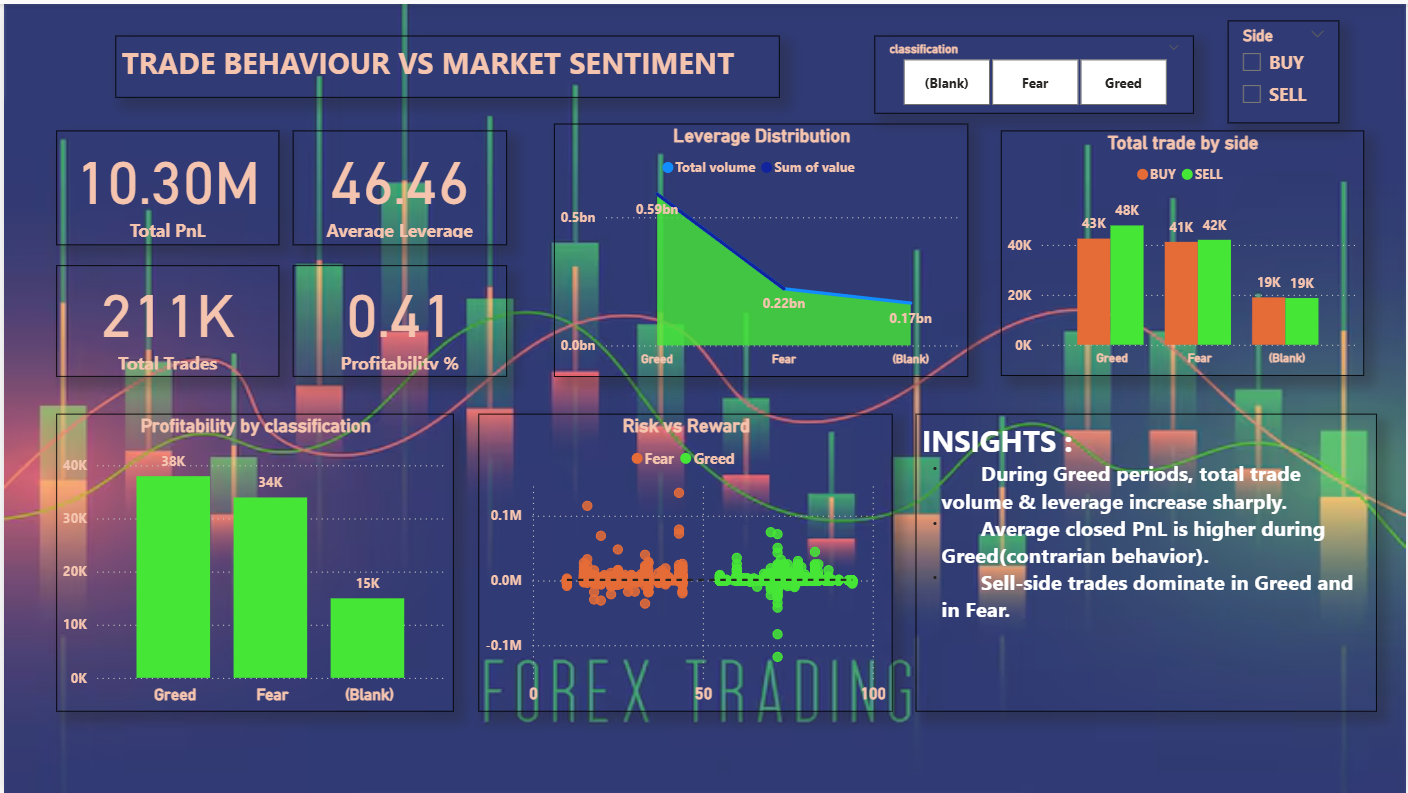

This screenshot's page, from the dashboard's own definition file:
{"tool":"powerbi","page":{"name":"Page 1","canvas":[1280,720],"ordinal":0},"visuals":[{"type":"card","fields":{"Values":["fear_greed_index.Total PnL"]},"box":[48.1,115.5,203.5,104.5],"z":0},{"type":"card","fields":{"Values":["fear_greed_index.Profitability %"]},"box":[264.1,237.9,195.3,101.8],"z":1},{"type":"card","fields":{"Values":["fear_greed_index.Total Trades"]},"box":[48.1,237.9,203.5,101.8],"z":2},{"type":"card","fields":{"Values":["fear_greed_index.Average Leverage"]},"box":[264.1,115.5,195.3,104.5],"z":3},{"type":"stackedAreaChart","title":"Leverage Distribution","fields":{"Category":["fear_greed_index.classification"],"Y":["fear_greed_index.Total volume","Sum(fear_greed_index.value)"]},"box":[502,108.6,378.2,231],"z":4},{"type":"clusteredColumnChart","title":"Total trade by side","fields":{"Category":["fear_greed_index.classification"],"Series":["historical_data.Side"],"Y":["fear_greed_index.Total Trades"]},"box":[910.4,115.5,331.4,224.2],"z":5},{"type":"columnChart","title":"Profitability by classification","fields":{"Y":["fear_greed_index.Profitable Trades"],"Category":["fear_greed_index.classification"]},"box":[48.1,374.1,363.1,272.3],"z":6},{"type":"scatterChart","title":"Risk vs Reward","fields":{"X":["fear_greed_index.value"],"Y":["historical_data.Closed PnL"],"Series":["fear_greed_index.classification"]},"box":[433.2,374.1,378.2,272.3],"z":9},{"type":"slicer","fields":{"Values":["fear_greed_index.classification"]},"box":[794.9,28.9,291.6,71.5],"z":10},{"type":"slicer","fields":{"Values":["historical_data.Side"]},"box":[1116.7,15.1,101.8,93.5],"z":11},{"type":"textbox","box":[101.8,28.9,606.5,56.4],"z":13},{"type":"textbox","box":[832,374.1,420.8,272.3],"z":14}]}

Visuals, with their boxes in screenshot pixels (x1, y1, x2, y2), scaled from the page's 1280x720 canvas onto the 1408x793 screenshot:
card - fear_greed_index.Total PnL: box=[53, 127, 277, 242]
card - fear_greed_index.Profitability %: box=[291, 262, 505, 374]
card - fear_greed_index.Total Trades: box=[53, 262, 277, 374]
card - fear_greed_index.Average Leverage: box=[291, 127, 505, 242]
"Leverage Distribution" stackedAreaChart: box=[552, 120, 968, 374]
"Total trade by side" clusteredColumnChart: box=[1001, 127, 1366, 374]
"Profitability by classification" columnChart: box=[53, 412, 452, 712]
"Risk vs Reward" scatterChart: box=[477, 412, 893, 712]
slicer - fear_greed_index.classification: box=[874, 32, 1195, 111]
slicer - historical_data.Side: box=[1228, 17, 1340, 120]
textbox: box=[112, 32, 779, 94]
textbox: box=[915, 412, 1378, 712]
